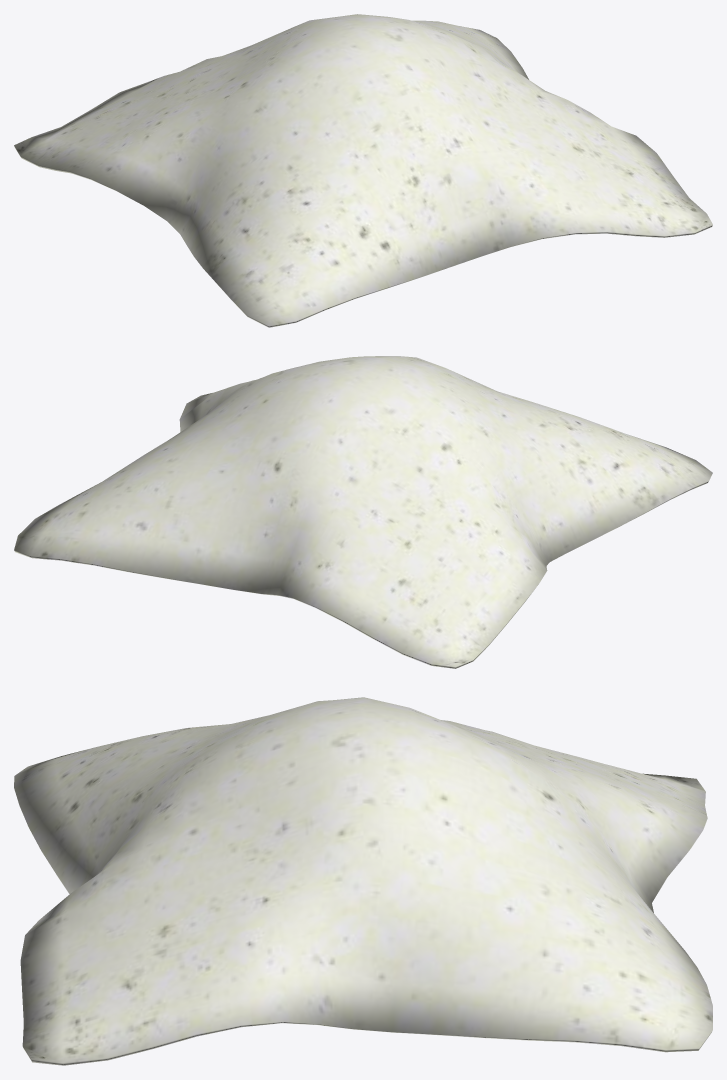
File: cleaning_cloth.glb
3 renders of one model, top to bottom at view 1: azimuth 30°, elevation 25°; view 2: azimuth 150°, elevation 25°; view 3: azimuth 270°, elevation 25°, orthographic. The views are drawn at different scales.
Visible parts, largest first — view 1: cloth; view 2: cloth; view 3: cloth.
Part boxes in pixels (box(x1,y1,x2,y2)): cloth: box(14, 14, 712, 327); cloth: box(14, 356, 712, 668); cloth: box(14, 697, 712, 1065).
Size of the model in its own units: 0.248 by 0.0794 by 0.2479.
1 material, 1 textured.
